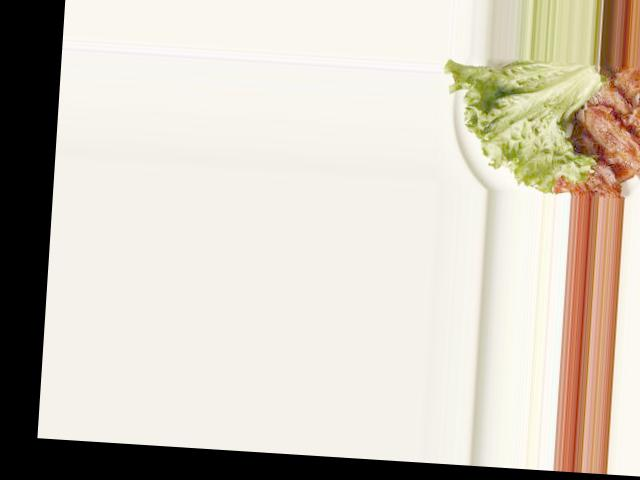lettuce: (464, 32, 621, 186)
